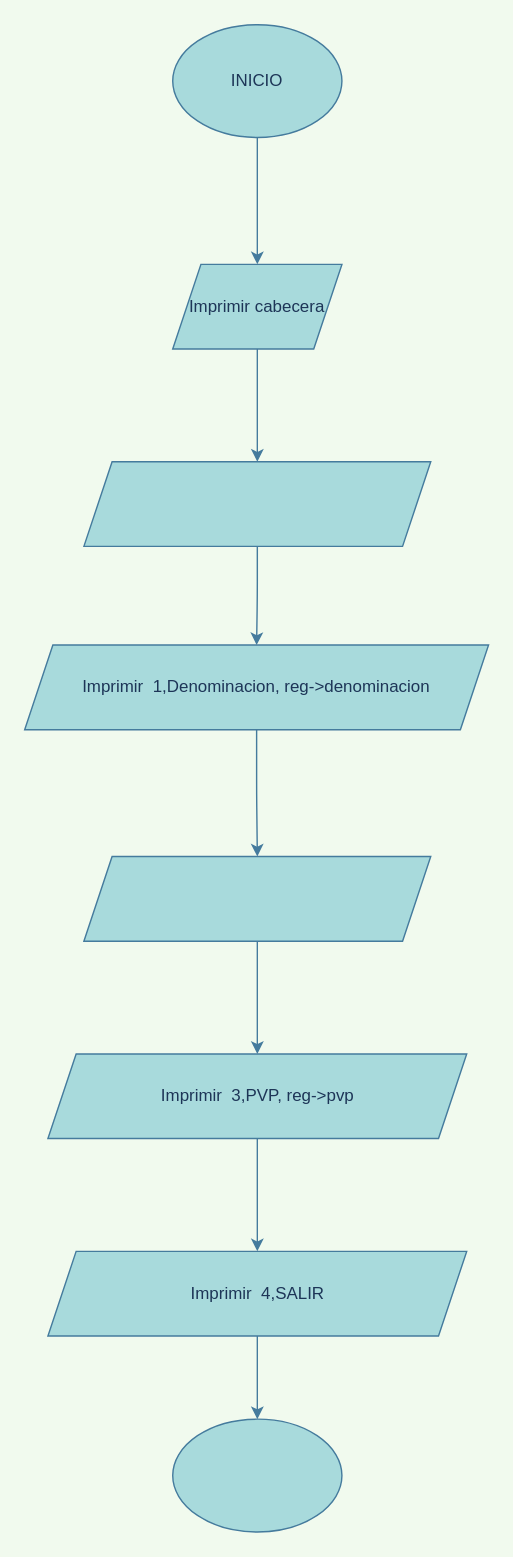
This 513x1557 diagram has some shape labels left out. The shapes that lost their labels are listed below. From the top down, each one's centre as x and y in pixels, then its label:
At [256,503]: "Imprimir N.Servicio, reg->nServicio".
At [256,898]: "Imprimir 2,Precio coste, reg->precioCoste".
At [256,1475]: "FIN".
